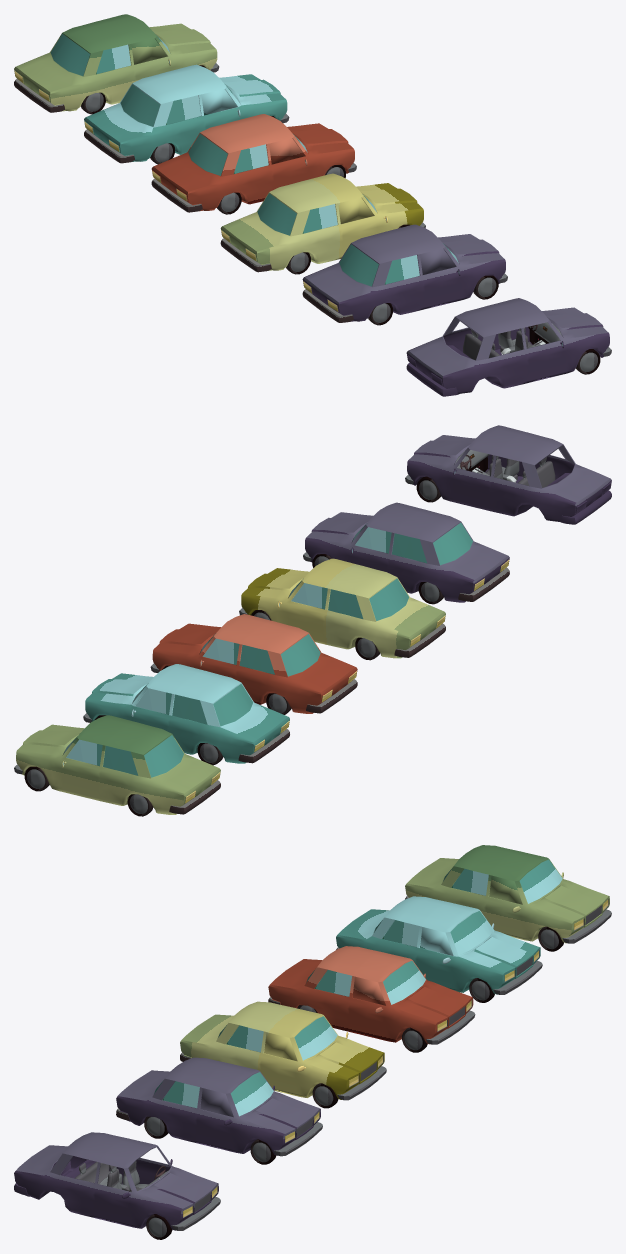
The model's file is Coche.fbx.
The picture shows the model from 3 angles, top to bottom: view 1: azimuth 30°, elevation 25°; view 2: azimuth 150°, elevation 25°; view 3: azimuth 330°, elevation 25°; orthographic projection.
Visible parts, largest first — view 1: Carroza.001, Carroza.003, Carroza.006, Carroza.004, Carroza, Carroza.002; view 2: Carroza.004, Carroza.006, Carroza.001, Carroza.002, Carroza, Carroza.003; view 3: Carroza.001, Carroza.003, Carroza.006, Carroza.004, Carroza, Carroza.002.
Boxes of the visible parts, x1=… form: Carroza.001: x1=302, y1=224, x2=507, y2=322; Carroza.003: x1=151, y1=114, x2=356, y2=212; Carroza.006: x1=220, y1=173, x2=425, y2=272; Carroza.004: x1=14, y1=14, x2=219, y2=112; Carroza: x1=406, y1=298, x2=611, y2=396; Carroza.002: x1=84, y1=64, x2=289, y2=163; Carroza.004: x1=14, y1=715, x2=220, y2=814; Carroza.006: x1=239, y1=558, x2=445, y2=658; Carroza.001: x1=303, y1=502, x2=509, y2=602; Carroza.002: x1=83, y1=664, x2=289, y2=763; Carroza: x1=405, y1=425, x2=611, y2=524; Carroza.003: x1=150, y1=614, x2=357, y2=713; Carroza.001: x1=116, y1=1057, x2=322, y2=1156; Carroza.003: x1=268, y1=946, x2=475, y2=1044; Carroza.006: x1=180, y1=1001, x2=386, y2=1100; Carroza.004: x1=405, y1=845, x2=611, y2=943; Carroza: x1=14, y1=1132, x2=220, y2=1230; Carroza.002: x1=336, y1=896, x2=542, y2=994.
Size of the model in its own units: 674 by 225 by 2802.
